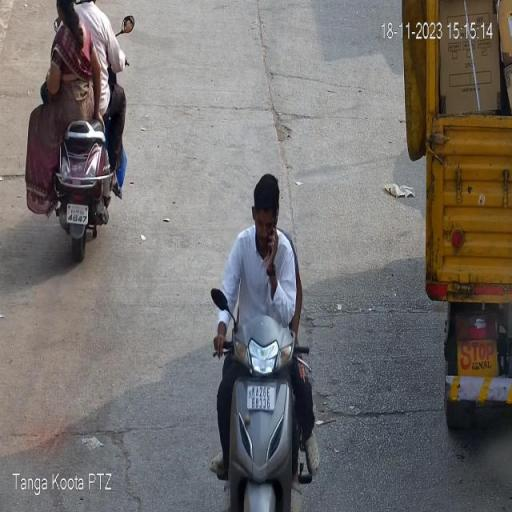using mobile: (249, 199, 288, 270)
